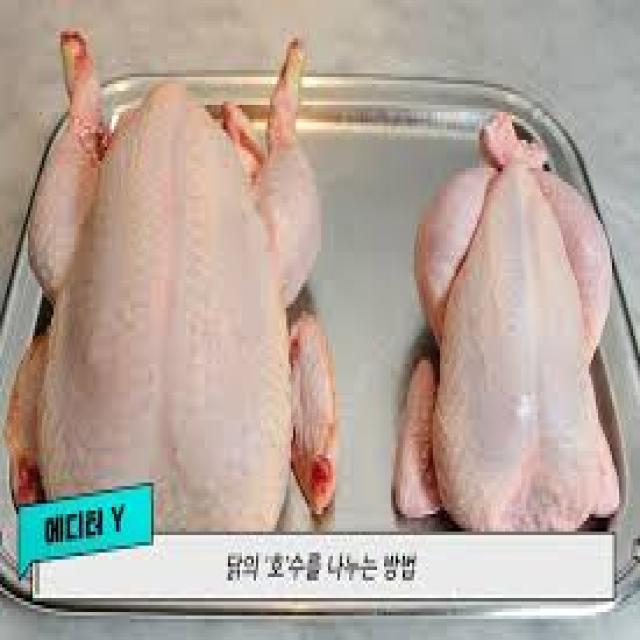chicken: (3, 39, 333, 534), (393, 116, 622, 531)
